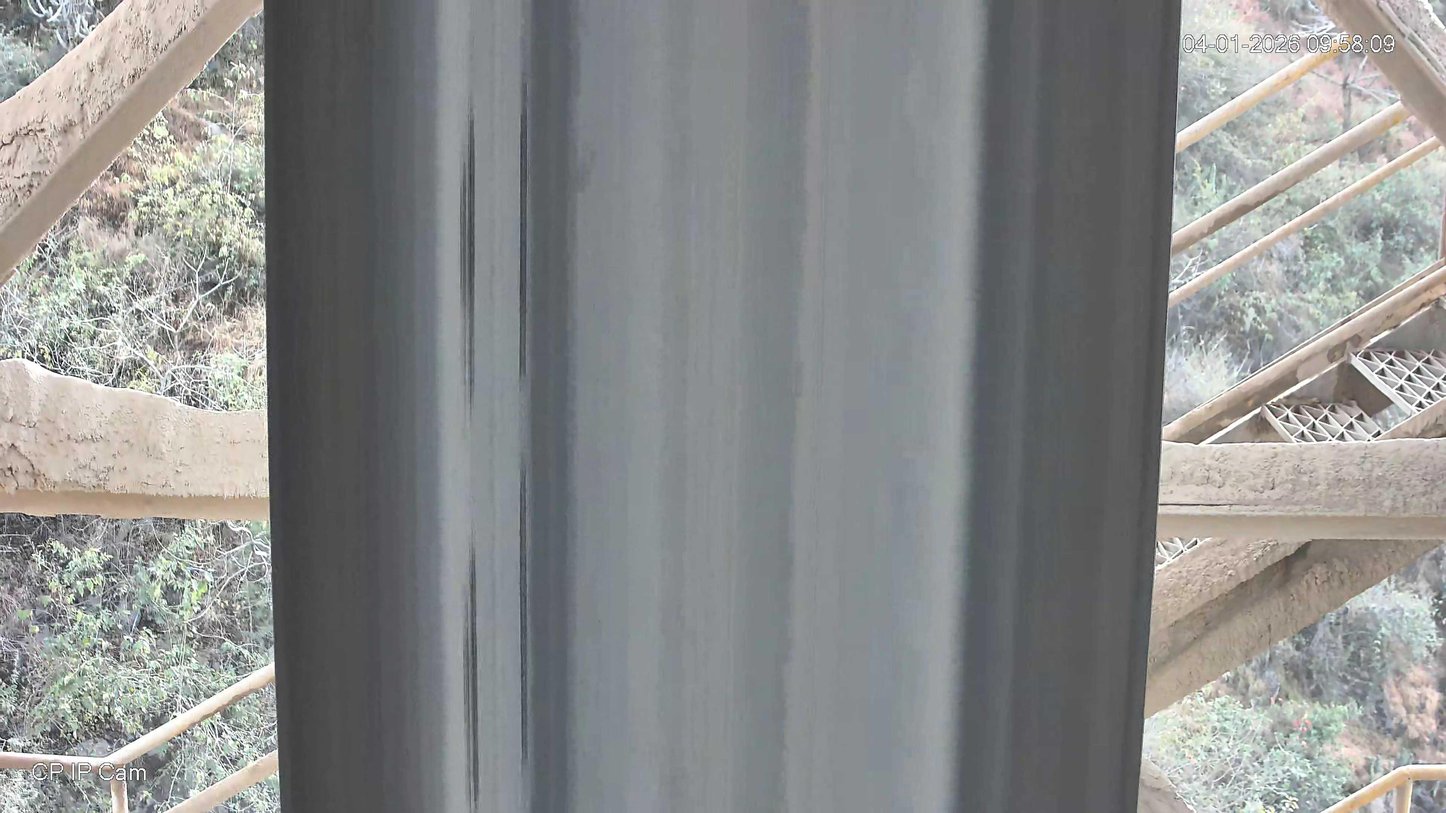belt_roi: (262, 0, 1182, 813)
